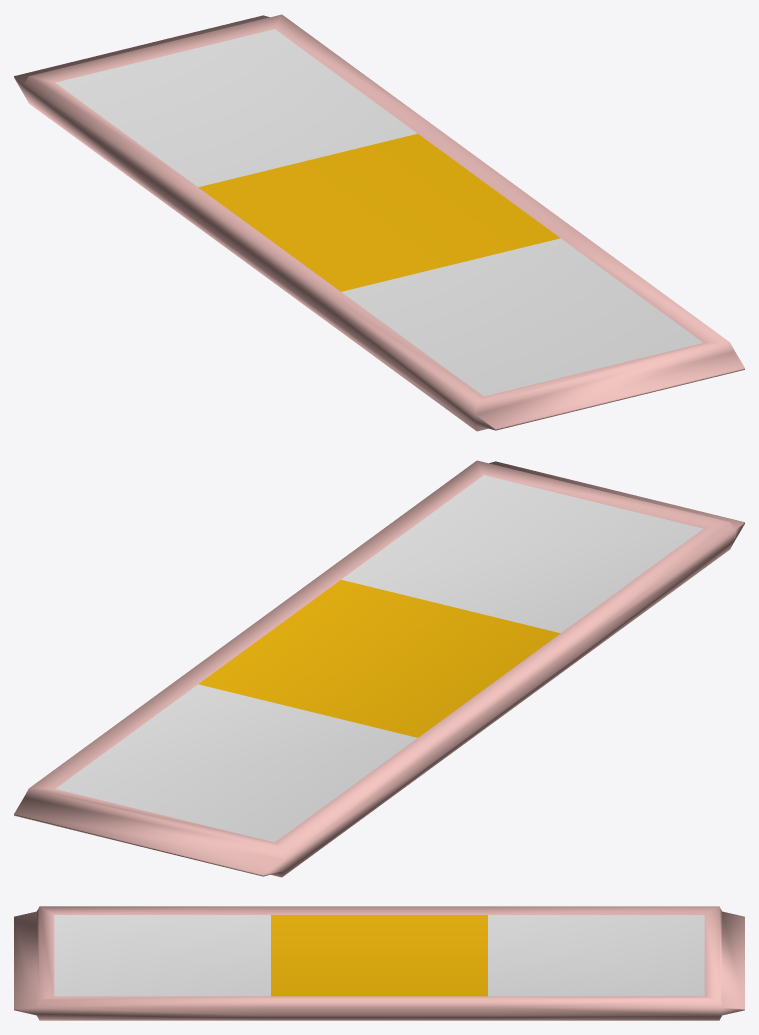
The model's file is Chocolate_Tablet_01.fbx.
3 renders of one model, top to bottom at view 1: azimuth 30°, elevation 25°; view 2: azimuth 150°, elevation 25°; view 3: azimuth 270°, elevation 25°, orthographic. The views are drawn at different scales.
Parts seen in each view (by area): view 1: Chocolate_Tablet_01; view 2: Chocolate_Tablet_01; view 3: Chocolate_Tablet_01.
Part boxes in pixels (x1,y1,x2,y2): Chocolate_Tablet_01: (14,14,744,431); Chocolate_Tablet_01: (14,460,744,877); Chocolate_Tablet_01: (14,906,744,1020).
Size of the model in its own units: 20.25 by 2.04 by 65.11.
